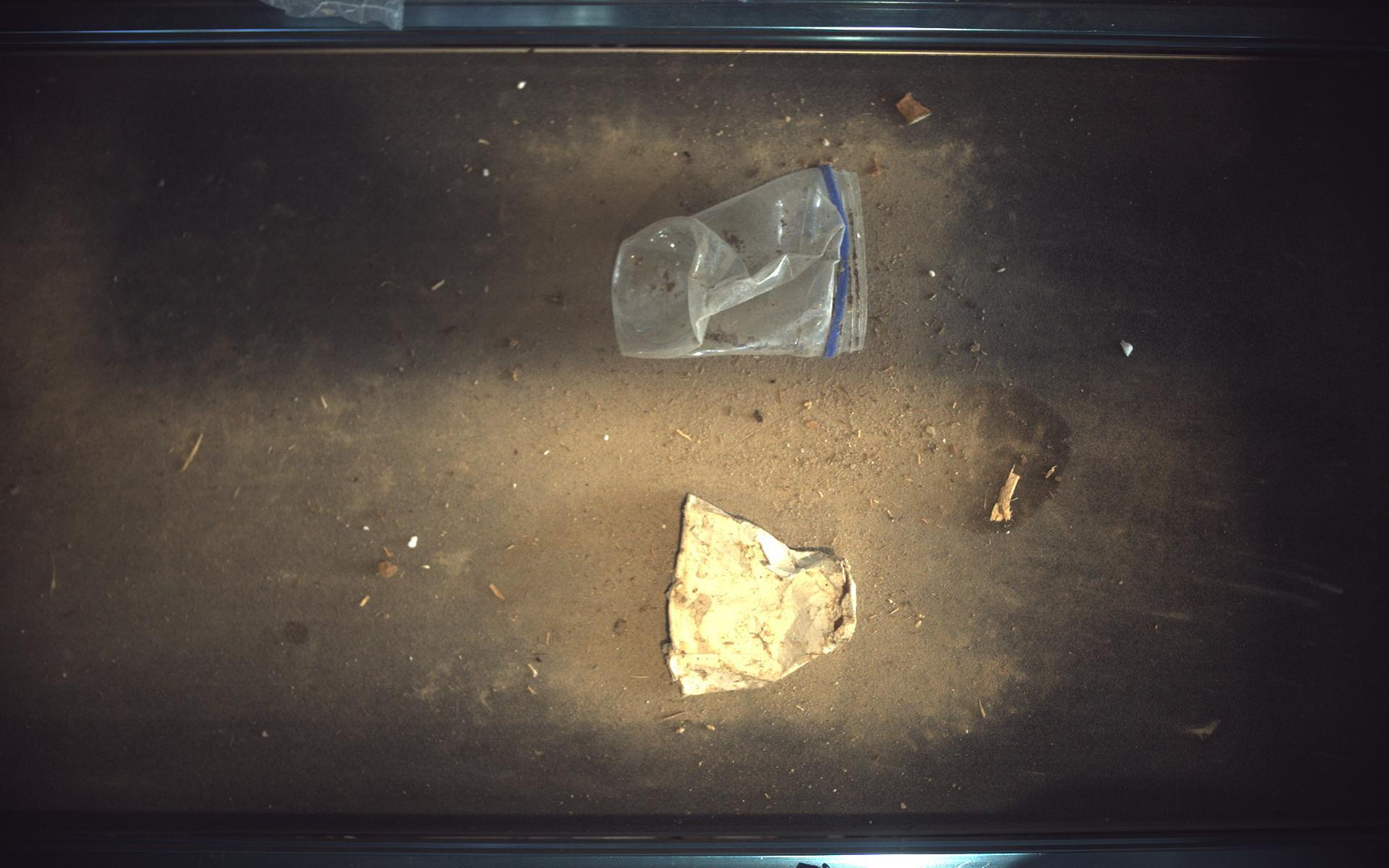general_w: (613, 164, 869, 358), (665, 494, 858, 697)
